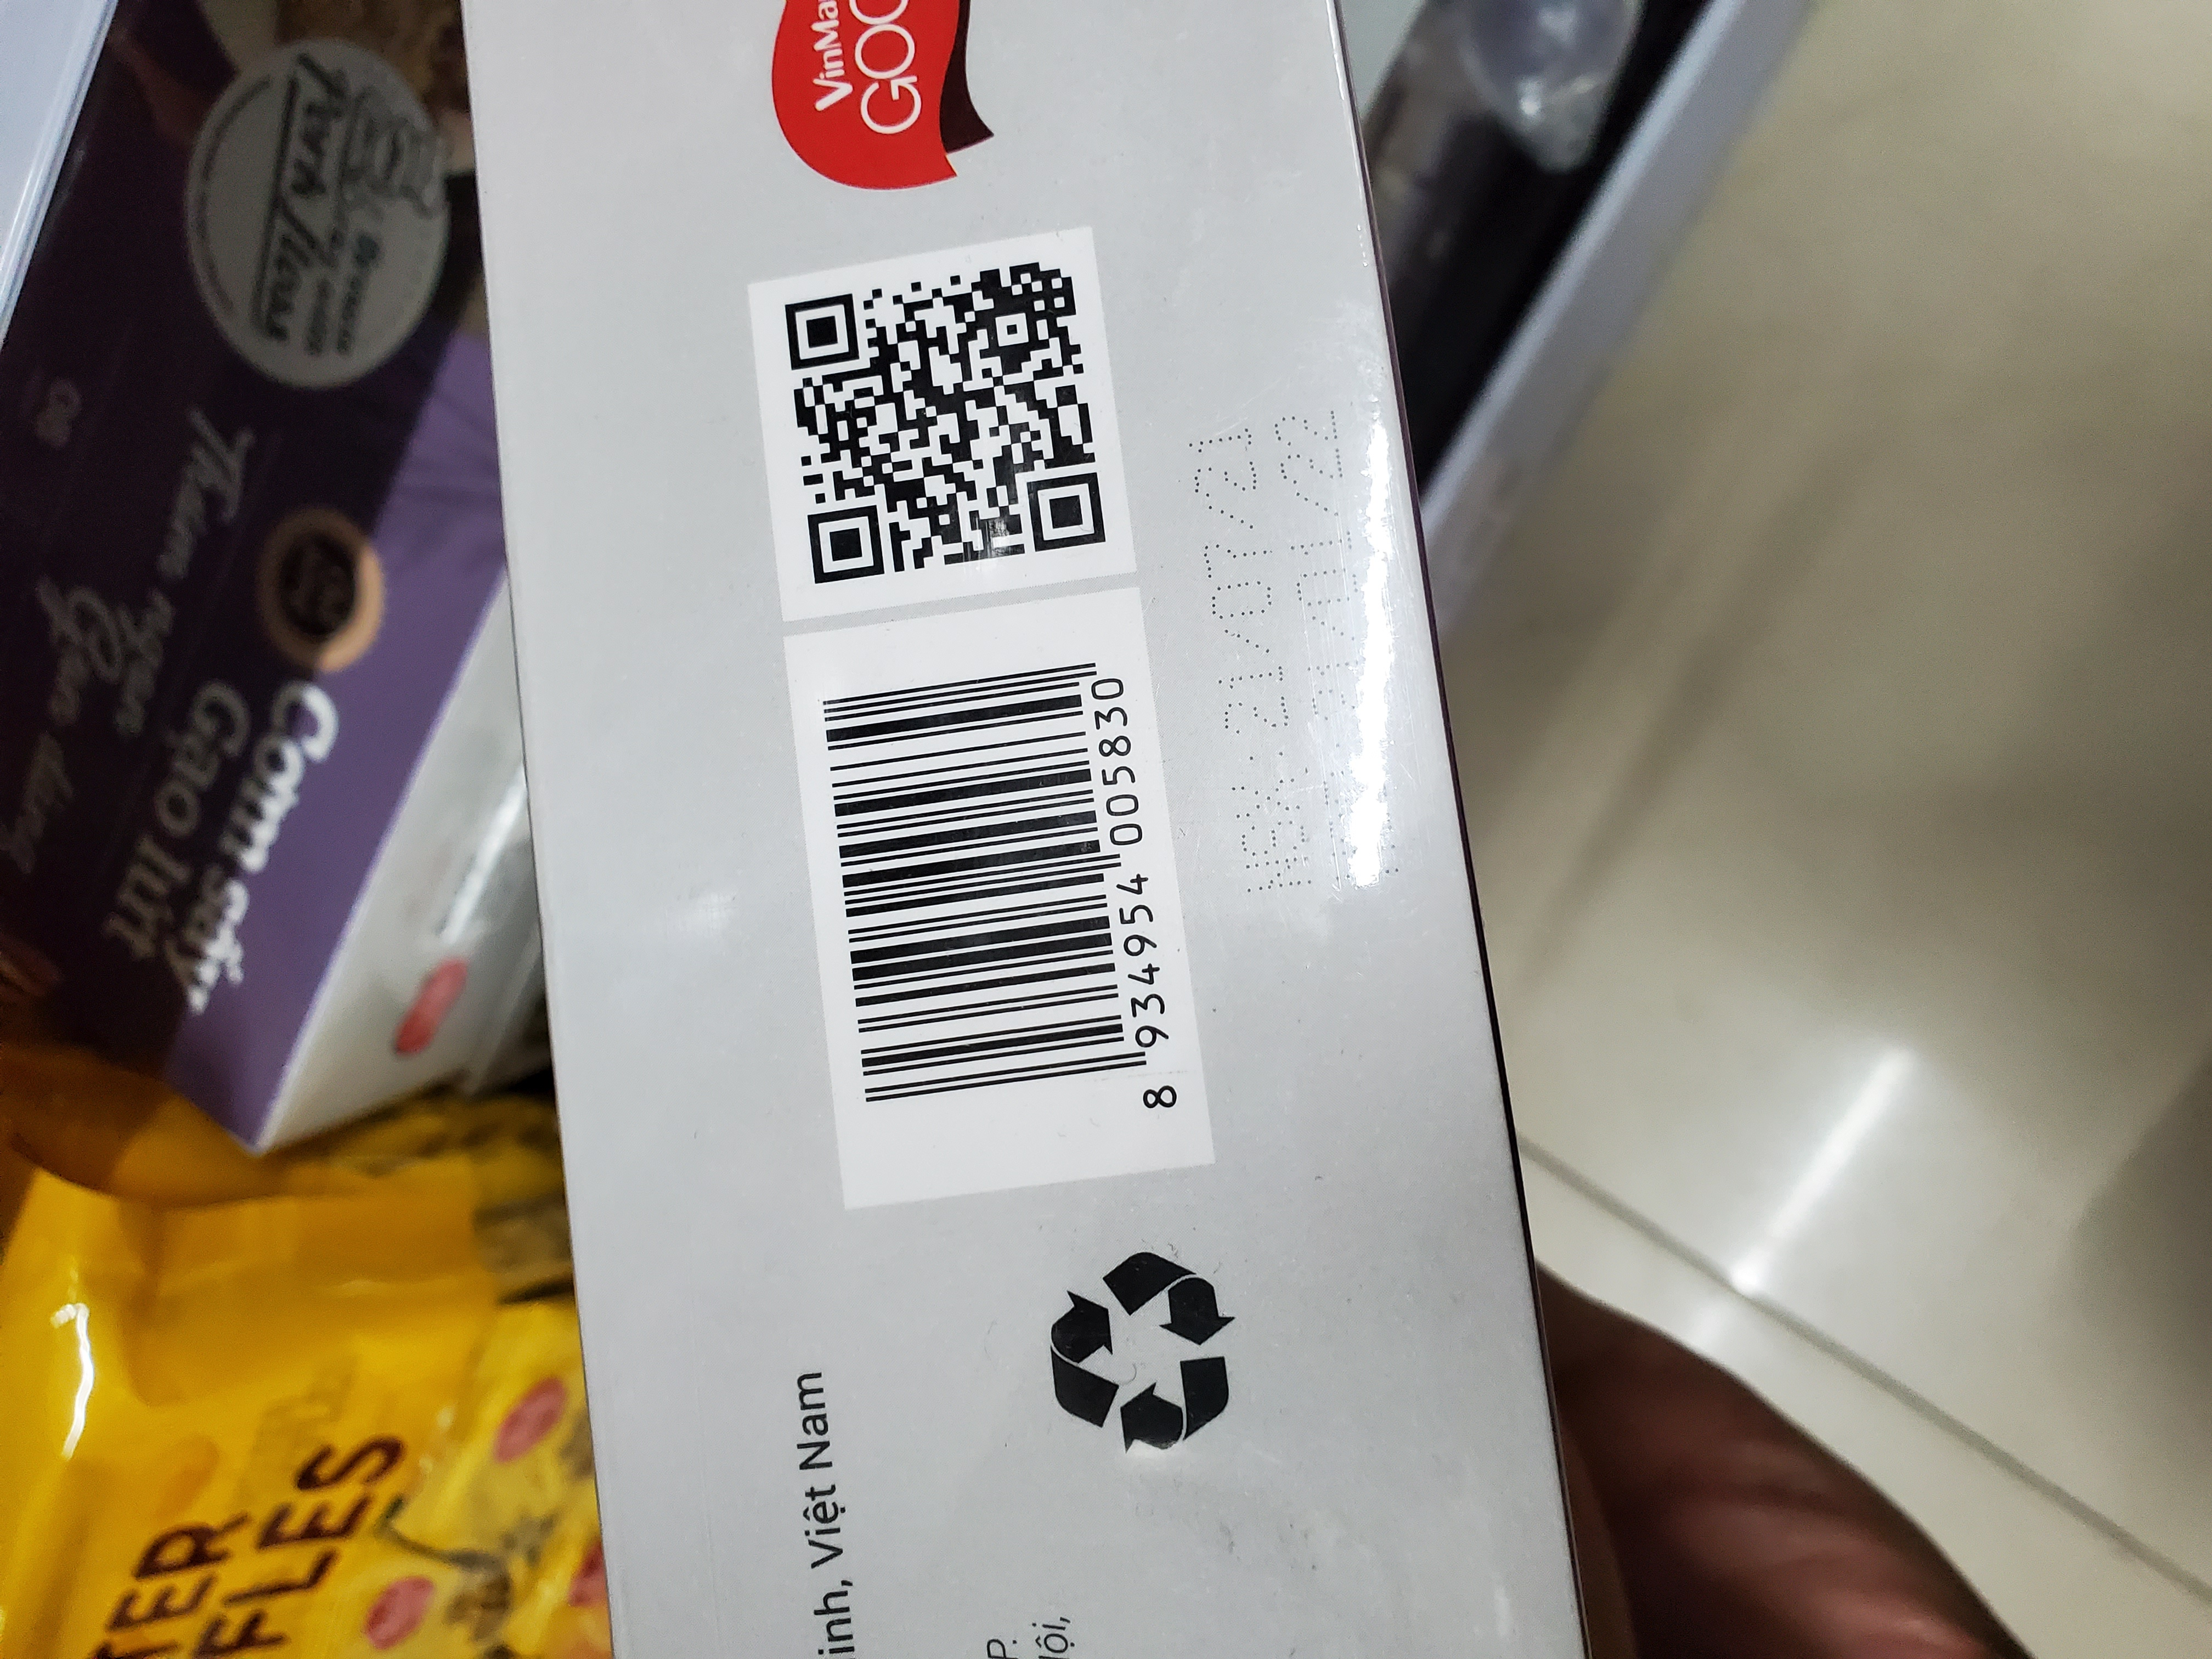barcode: (782, 634, 1200, 1143)
qr code: (728, 240, 1137, 610)
